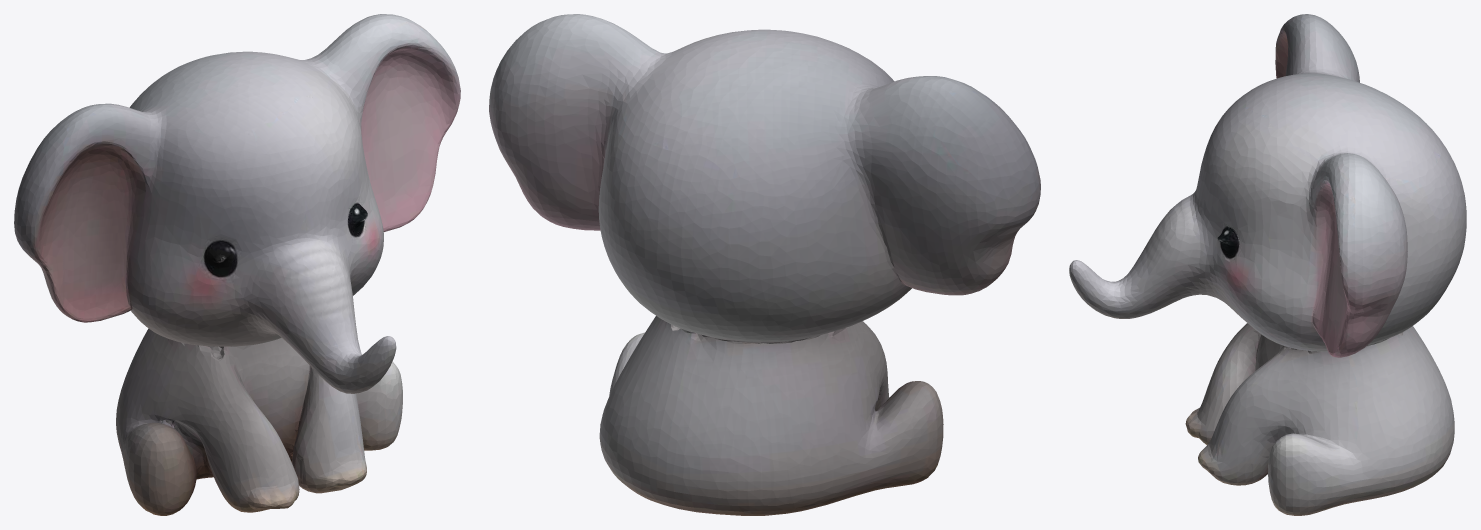
Rendered from elephant.glb.
3 renders of one model, left to right at view 1: azimuth 30°, elevation 25°; view 2: azimuth 150°, elevation 25°; view 3: azimuth 270°, elevation 25°, orthographic. The views are drawn at different scales.
Parts seen in each view (by area): view 1: geometry_0; view 2: geometry_0; view 3: geometry_0.
Boxes of the visible parts, bbox=[...] form: geometry_0: bbox=[14, 14, 460, 515]; geometry_0: bbox=[489, 14, 1040, 515]; geometry_0: bbox=[1069, 14, 1466, 515].
Bounding box in the file's own units: 0.9988 × 0.8124 × 0.7913.
Materials: 1 (1 with a texture image).
